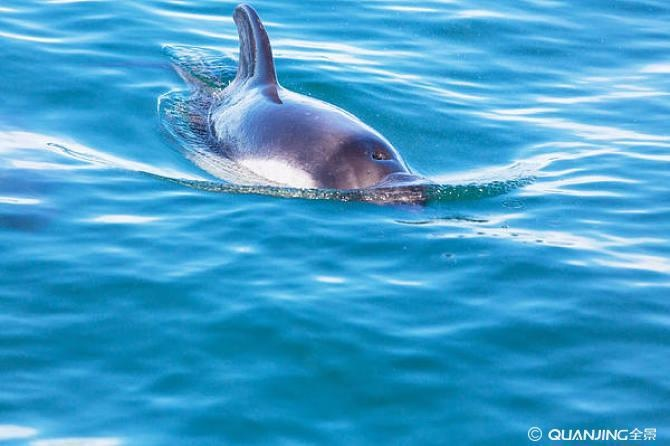fish: (195, 3, 434, 208)
